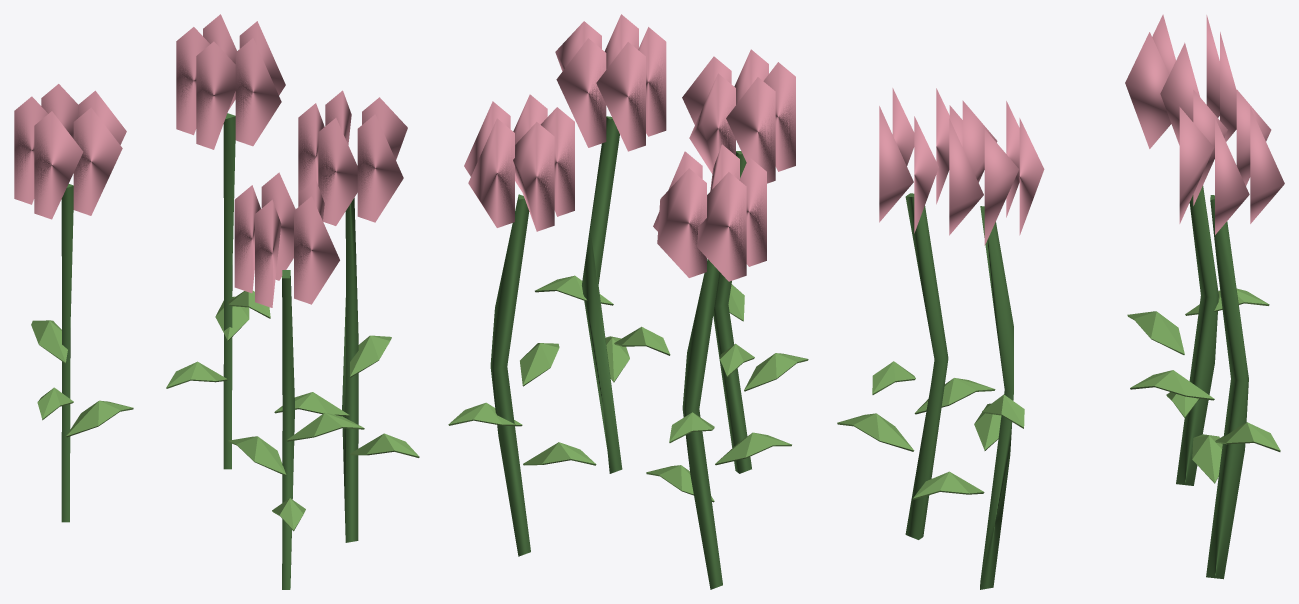
The model's file is flower.tulip-far.glb.
3 renders of one model, left to right at view 1: azimuth 30°, elevation 25°; view 2: azimuth 150°, elevation 25°; view 3: azimuth 270°, elevation 25°, orthographic. The views are drawn at different scales.
Visible parts, largest first — view 1: Living stem; view 2: Living stem; view 3: Living stem.
Boxes of the visible parts, left/top/right/bottom form: Living stem: left=14, top=14, right=419, bottom=589; Living stem: left=448, top=14, right=808, bottom=589; Living stem: left=837, top=14, right=1284, bottom=589.
Size of the model in its own units: 0.3779 by 0.526 by 0.4472.
